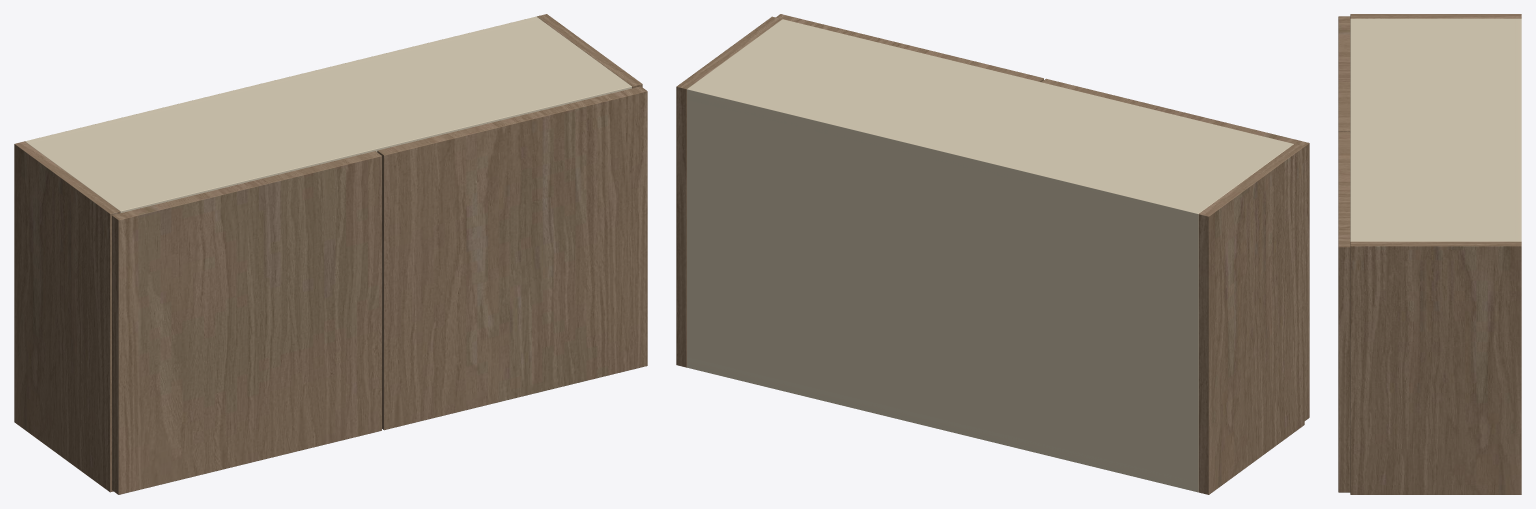
File: oppein-ply-mnw-w3618.glb
The picture shows the model from 3 angles, left to right: view 1: azimuth 30°, elevation 25°; view 2: azimuth 150°, elevation 25°; view 3: azimuth 270°, elevation 25°; orthographic projection. The views are drawn at different scales.
Parts seen in each view (by area): view 1: Door, Door.001, Cabinet top, Cabinet side, Cabinet back, Cabinet side.001; view 2: Cabinet back, Cabinet top, Cabinet side, Cabinet bottom, Cabinet side.001, Door, Door.001; view 3: Cabinet side.001, Cabinet top, Door.001, Cabinet back, Door, Cabinet side.
Boxes of the visible parts, x1,y1,x2,y2 form: Door: [112, 151, 381, 494]; Door.001: [377, 86, 647, 430]; Cabinet top: [29, 19, 631, 213]; Cabinet side: [14, 141, 120, 492]; Cabinet back: [25, 16, 539, 143]; Cabinet side.001: [537, 14, 642, 88]; Cabinet back: [687, 86, 1201, 492]; Cabinet top: [687, 19, 1293, 221]; Cabinet side: [1198, 144, 1304, 494]; Cabinet bottom: [687, 357, 1198, 491]; Cabinet side.001: [676, 16, 781, 367]; Door: [1041, 78, 1309, 420]; Door.001: [776, 14, 1043, 81]; Cabinet side.001: [1350, 241, 1521, 494]; Cabinet top: [1350, 18, 1521, 241]; Door.001: [1338, 132, 1350, 492]; Cabinet back: [1514, 18, 1521, 241]; Door: [1338, 16, 1350, 131]; Cabinet side: [1350, 14, 1521, 18].
Bounding box in the file's own units: 0.9144 × 0.4572 × 0.3048.
2 materials, 1 textured.
